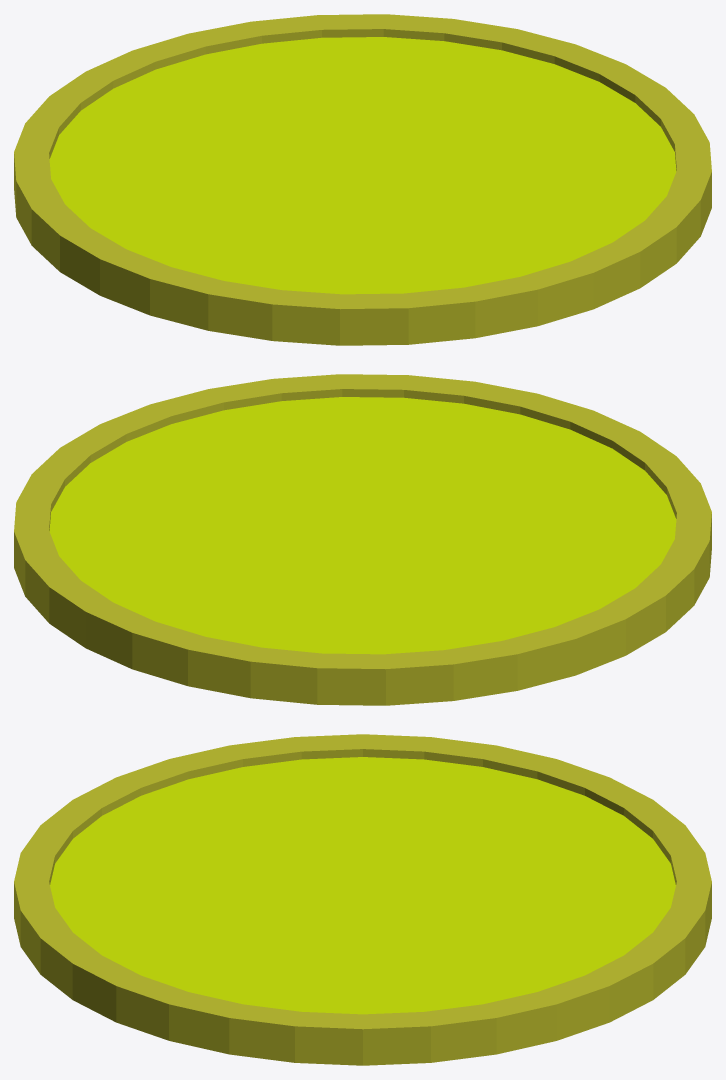
Rendered from coin.fbx.
3 views of the same model, one above another, from view 1: azimuth 30°, elevation 25°; view 2: azimuth 150°, elevation 25°; view 3: azimuth 270°, elevation 25° (orthographic).
Parts seen in each view (by area): view 1: Circle; view 2: Circle; view 3: Circle.
Part boxes in pixels (x1,y1,x2,y2): Circle: (14, 14, 711, 345); Circle: (14, 374, 711, 705); Circle: (14, 734, 711, 1065).
Bounding box in the file's own units: 200 × 11.56 × 200.
